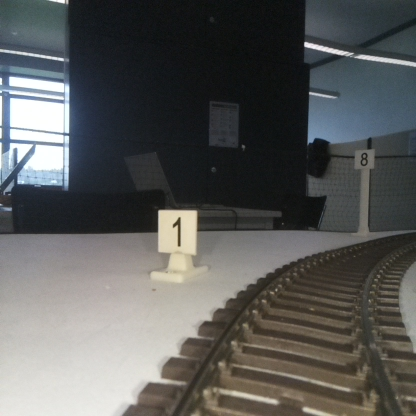white-info-8: (354, 149, 374, 233)
white-stop-1: (158, 209, 196, 278)
